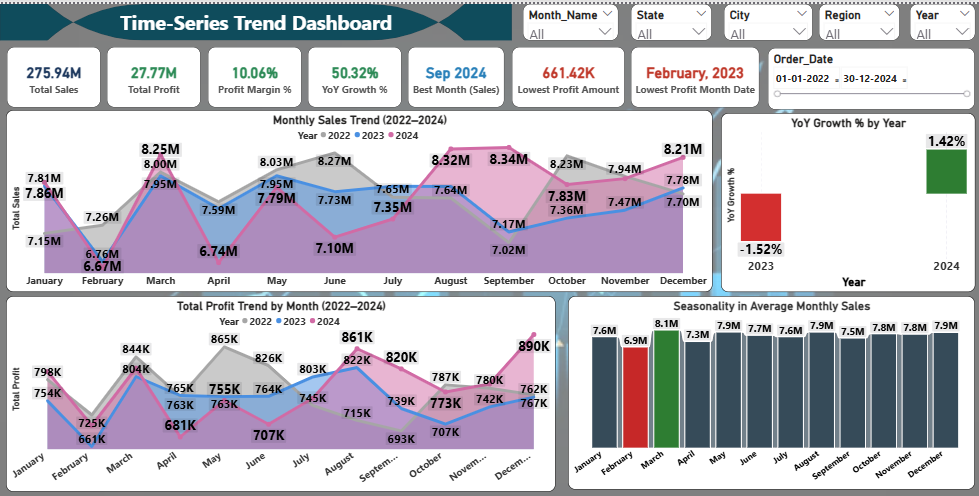

This screenshot's page, from the dashboard's own definition file:
{"tool":"powerbi","page":{"name":"Time-Series Trend Dashboard","canvas":[4000,2000],"ordinal":4},"visuals":[{"type":"shape","box":[0,0,2080.9,148.3],"z":0},{"type":"card","fields":{"Values":["Fact_Sales.Total Sales"]},"box":[27,173.1,380,245],"z":1000},{"type":"card","fields":{"Values":["Fact_Sales.Total Profit"]},"box":[435.3,173.1,380,245],"z":2000},{"type":"card","fields":{"Values":["Fact_Sales.Profit Margin %"]},"box":[843.6,173.1,380,245],"z":3000},{"type":"card","fields":{"Values":["Fact_Sales.YoY Growth %"]},"box":[1251.9,173.1,380,245],"z":4000},{"type":"card","fields":{"Values":["Fact_Sales.Best Month (Sales)"]},"box":[1660.2,173.1,391,245],"z":5000},{"type":"card","fields":{"Values":["Fact_Sales.Worst Profit Value"]},"box":[2079.6,173.1,458.4,245],"z":6000},{"type":"card","fields":{"Values":["Fact_Sales.Worst Profit Month Date"]},"box":[2566.3,173.1,521.3,245],"z":7000},{"type":"lineChart","title":"Monthly Sales Trend (2022–2024)","fields":{"Category":["Dim_Date.Month_Name"],"Series":["Dim_Date.Year"],"Y":["Fact_Sales.Total Sales"]},"box":[22.5,431.5,2871.9,740],"z":8000},{"type":"lineChart","title":"Total Profit Trend by Month (2022–2024)","fields":{"Category":["Dim_Date.Month_Name"],"Series":["Dim_Date.Year"],"Y":["Fact_Sales.Total Profit"]},"box":[22.5,1186.5,2233.7,795.5],"z":9000},{"type":"clusteredColumnChart","fields":{"Y":["Fact_Sales.YoY Growth %"],"Category":["Dim_Date.Year"]},"box":[2930.3,444.9,1033.7,728.1],"z":10000},{"type":"columnChart","title":"Seasonality in Average Monthly Sales","fields":{"Category":["Dim_Date.Month_Name"],"Y":["Fact_Sales.Avg Monthly Sales"]},"box":[2310.1,1186.5,1653.9,786.5],"z":11000},{"type":"slicer","fields":{"Values":["Dim_Date.Year"]},"box":[3698.9,0,265.2,148.3],"z":12000},{"type":"slicer","fields":{"Values":["Dim_Date.Month_Name"]},"box":[2125.8,0,386.5,148.3],"z":13000},{"type":"slicer","fields":{"Values":["Dim_Customer.Region"]},"box":[3330.3,0,328.1,148.3],"z":14000},{"type":"slicer","fields":{"Values":["Dim_Customer.State"]},"box":[2566.3,0,328.1,148.3],"z":15000},{"type":"slicer","fields":{"Values":["Dim_Customer.City"]},"box":[2943.8,0,359.6,148.3],"z":16000},{"type":"slicer","fields":{"Values":["Dim_Date.Order_Date"]},"box":[3123.6,179.8,840.4,250],"z":17000}]}

Visuals, with their boxes in screenshot pixels (x1, y1, x2, y2), scaled from the page's 4000x2000 canvas onto the 979x496 screenshot:
shape: box=[0, 0, 509, 37]
card - Fact_Sales.Total Sales: box=[7, 43, 100, 104]
card - Fact_Sales.Total Profit: box=[107, 43, 200, 104]
card - Fact_Sales.Profit Margin %: box=[206, 43, 299, 104]
card - Fact_Sales.YoY Growth %: box=[306, 43, 399, 104]
card - Fact_Sales.Best Month (Sales): box=[406, 43, 502, 104]
card - Fact_Sales.Worst Profit Value: box=[509, 43, 621, 104]
card - Fact_Sales.Worst Profit Month Date: box=[628, 43, 756, 104]
"Monthly Sales Trend (2022–2024)" lineChart: box=[6, 107, 708, 291]
"Total Profit Trend by Month (2022–2024)" lineChart: box=[6, 294, 552, 492]
clusteredColumnChart - Fact_Sales.YoY Growth % x Dim_Date.Year: box=[717, 110, 970, 291]
"Seasonality in Average Monthly Sales" columnChart: box=[565, 294, 970, 489]
slicer - Dim_Date.Year: box=[905, 0, 970, 37]
slicer - Dim_Date.Month_Name: box=[520, 0, 615, 37]
slicer - Dim_Customer.Region: box=[815, 0, 895, 37]
slicer - Dim_Customer.State: box=[628, 0, 708, 37]
slicer - Dim_Customer.City: box=[720, 0, 809, 37]
slicer - Dim_Date.Order_Date: box=[765, 45, 970, 107]
